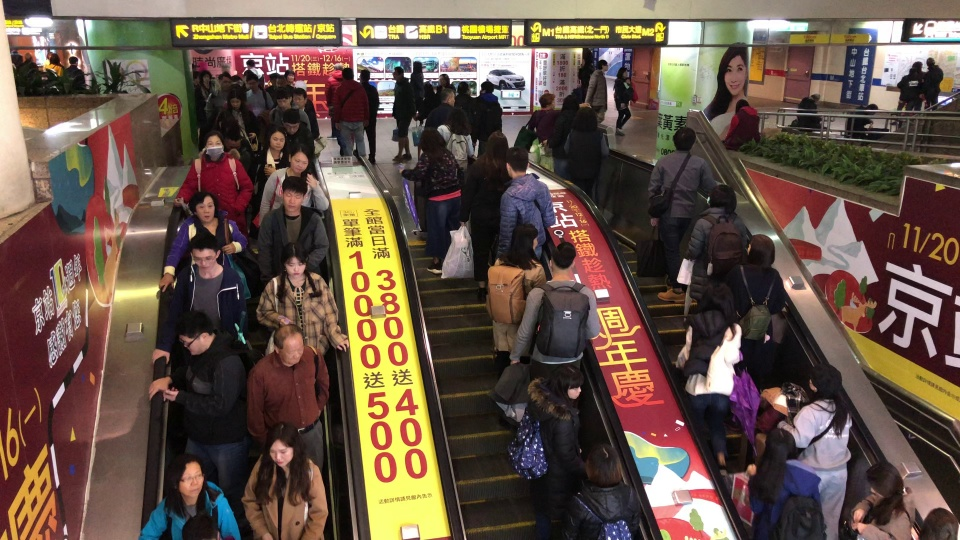person_head: (249, 426, 313, 507), (753, 424, 797, 511), (274, 243, 319, 310), (168, 454, 212, 513), (864, 460, 903, 512), (583, 438, 625, 486), (183, 231, 224, 274), (177, 309, 212, 359), (503, 223, 539, 270), (271, 320, 305, 368), (551, 362, 584, 406), (918, 506, 960, 540), (746, 228, 777, 271), (805, 360, 842, 396), (708, 286, 733, 331), (768, 346, 796, 386), (188, 187, 219, 223), (552, 240, 579, 281), (482, 131, 509, 169), (181, 516, 221, 540), (282, 177, 306, 214), (708, 184, 737, 214), (507, 149, 532, 183), (417, 129, 446, 155), (574, 105, 598, 136), (204, 130, 224, 164), (220, 112, 242, 141), (287, 146, 308, 174), (449, 108, 469, 137), (672, 125, 695, 150), (267, 124, 285, 151), (283, 108, 301, 134), (561, 93, 578, 120), (437, 87, 455, 107), (291, 88, 307, 108), (275, 88, 290, 109), (217, 111, 233, 130), (212, 105, 225, 126), (539, 92, 555, 108), (734, 99, 750, 114), (246, 73, 259, 90), (242, 68, 252, 87), (220, 72, 231, 89), (457, 81, 468, 97), (438, 73, 451, 86), (424, 81, 433, 99), (341, 67, 353, 80), (357, 68, 368, 82), (393, 66, 404, 80), (201, 69, 211, 84), (481, 81, 491, 96), (809, 90, 820, 103), (294, 79, 307, 90), (50, 53, 60, 67), (911, 60, 922, 72), (867, 103, 878, 115), (597, 60, 609, 71), (286, 68, 295, 82), (276, 74, 285, 88), (616, 67, 627, 78), (69, 56, 79, 68), (332, 62, 342, 74), (270, 72, 279, 85), (412, 60, 421, 71), (24, 52, 33, 62), (232, 74, 241, 84), (926, 56, 934, 66), (193, 71, 199, 84), (191, 62, 200, 70), (579, 58, 587, 66), (246, 59, 254, 67), (46, 51, 52, 59)
person_vbox: (151, 304, 246, 517), (507, 242, 603, 390), (246, 317, 329, 480), (676, 282, 745, 476), (643, 123, 720, 290), (158, 225, 245, 369), (255, 241, 347, 369), (529, 358, 591, 540), (239, 423, 331, 540), (791, 358, 850, 540), (161, 185, 249, 303), (397, 128, 465, 275), (743, 423, 828, 540), (138, 445, 241, 540), (173, 131, 253, 243), (680, 181, 748, 312), (737, 227, 789, 394), (567, 433, 643, 540), (256, 176, 330, 285), (491, 224, 550, 350), (751, 343, 812, 464), (472, 132, 513, 301), (498, 146, 555, 265), (260, 148, 327, 249), (844, 460, 911, 539), (563, 105, 610, 199), (543, 91, 582, 182), (272, 107, 316, 178), (527, 91, 564, 173), (255, 126, 291, 210), (338, 66, 368, 161), (225, 85, 261, 157), (437, 105, 474, 172), (476, 82, 503, 165), (358, 65, 380, 166), (388, 65, 409, 165), (723, 98, 760, 153), (268, 88, 312, 133), (217, 111, 253, 166), (295, 80, 320, 147), (224, 129, 255, 183), (196, 69, 215, 150), (902, 60, 925, 126), (843, 101, 878, 144), (888, 66, 913, 126), (421, 89, 455, 133), (614, 66, 634, 139), (587, 60, 609, 121), (245, 73, 274, 119), (326, 62, 341, 143), (456, 78, 478, 130), (796, 91, 824, 131), (923, 56, 943, 111), (291, 87, 311, 132), (578, 58, 595, 104), (64, 55, 85, 90), (206, 75, 220, 125), (215, 71, 234, 105), (411, 58, 422, 115), (422, 77, 435, 119), (20, 52, 37, 78), (265, 72, 280, 101), (43, 50, 61, 74), (437, 70, 455, 93), (49, 51, 63, 80), (227, 85, 241, 111), (10, 47, 23, 69), (286, 67, 296, 89)
